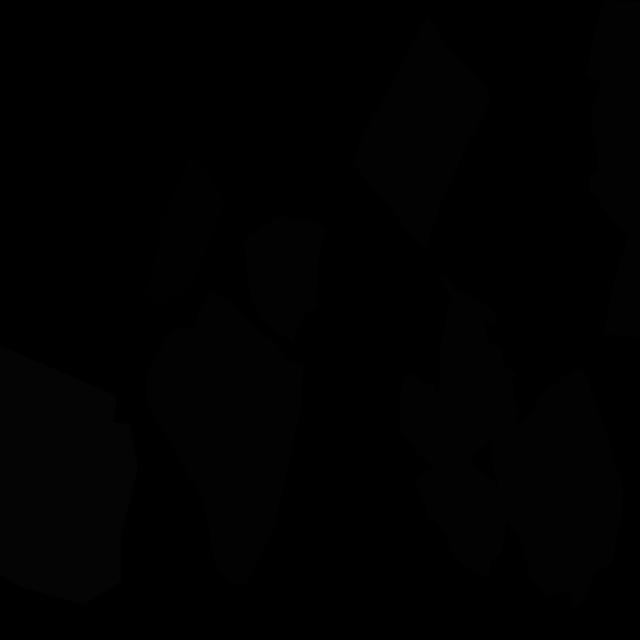cardboard: (146, 291, 304, 586), (352, 16, 490, 252), (490, 368, 623, 608), (398, 273, 521, 470), (587, 0, 640, 339), (416, 451, 544, 577), (244, 216, 326, 352)
rigid_plastic: (145, 156, 225, 312)
soft_plastic: (0, 345, 138, 605)
